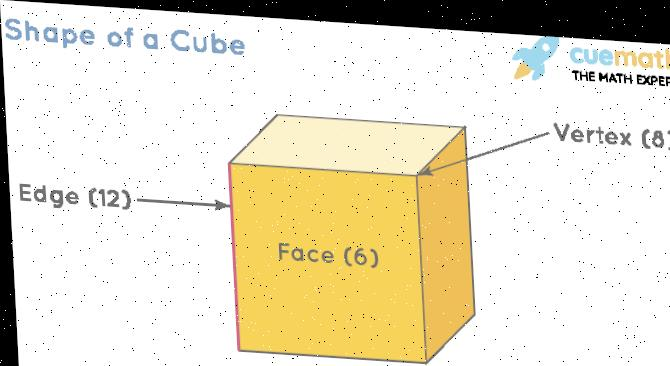cube: (227, 105, 479, 365)
